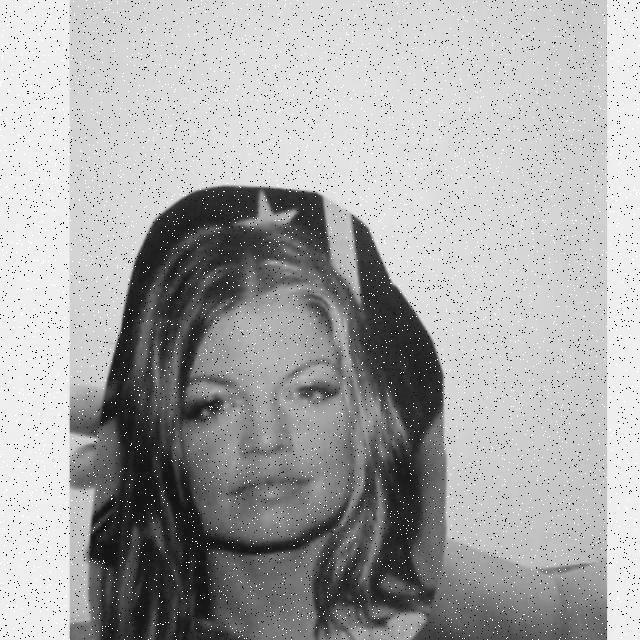fake: (69, 180, 450, 640)
